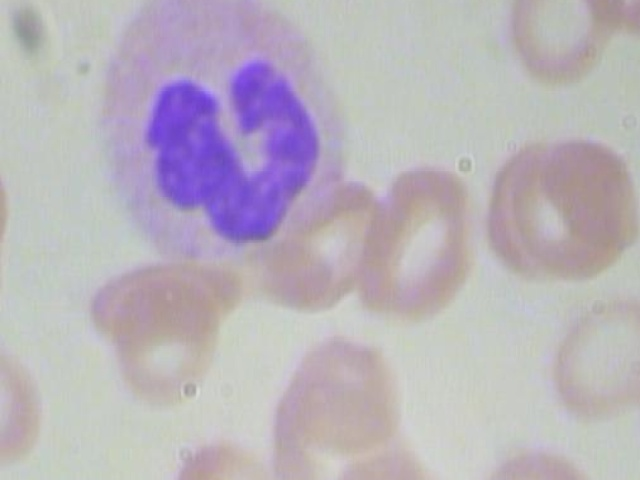RBC: (351, 160, 482, 319), (93, 253, 224, 412), (262, 180, 393, 339), (277, 304, 408, 463), (534, 116, 640, 268), (482, 0, 627, 88), (545, 291, 640, 425), (0, 313, 51, 472), (160, 429, 290, 480), (312, 433, 444, 480), (477, 439, 606, 480), (0, 116, 22, 273)
WBC: (83, 0, 369, 263)
